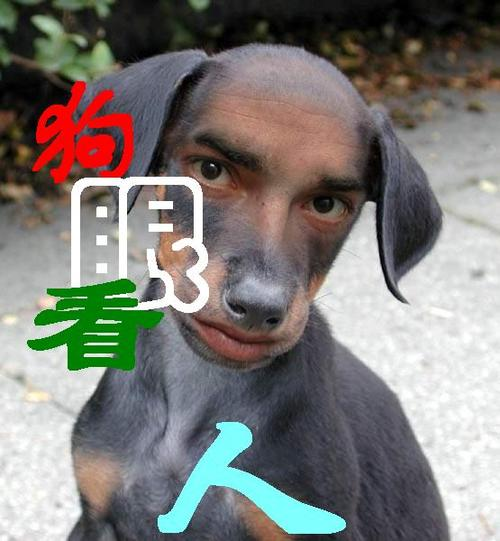dog: (80, 43, 432, 376)
